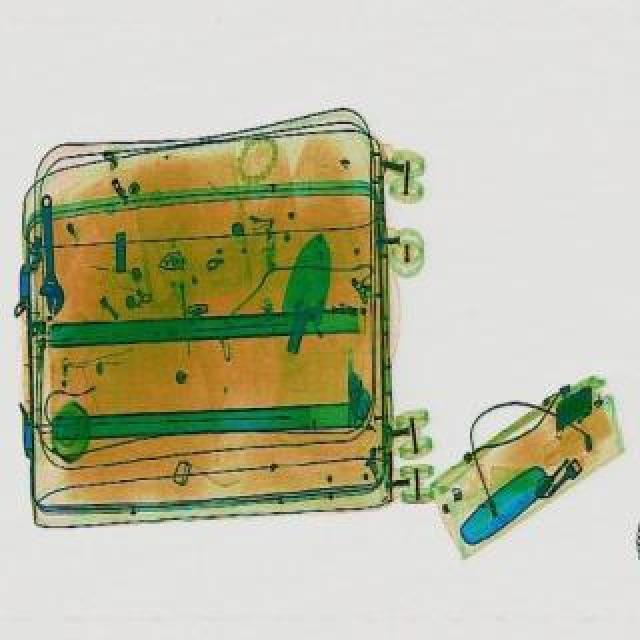knife: (268, 228, 342, 356)
scissors: (32, 192, 64, 314)
